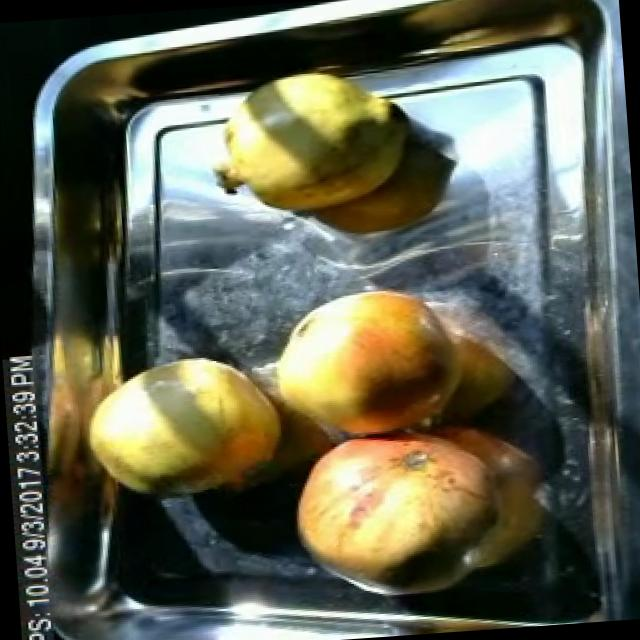fruit: (275, 409, 523, 607), (253, 273, 485, 452), (69, 342, 297, 514), (203, 59, 417, 228)
